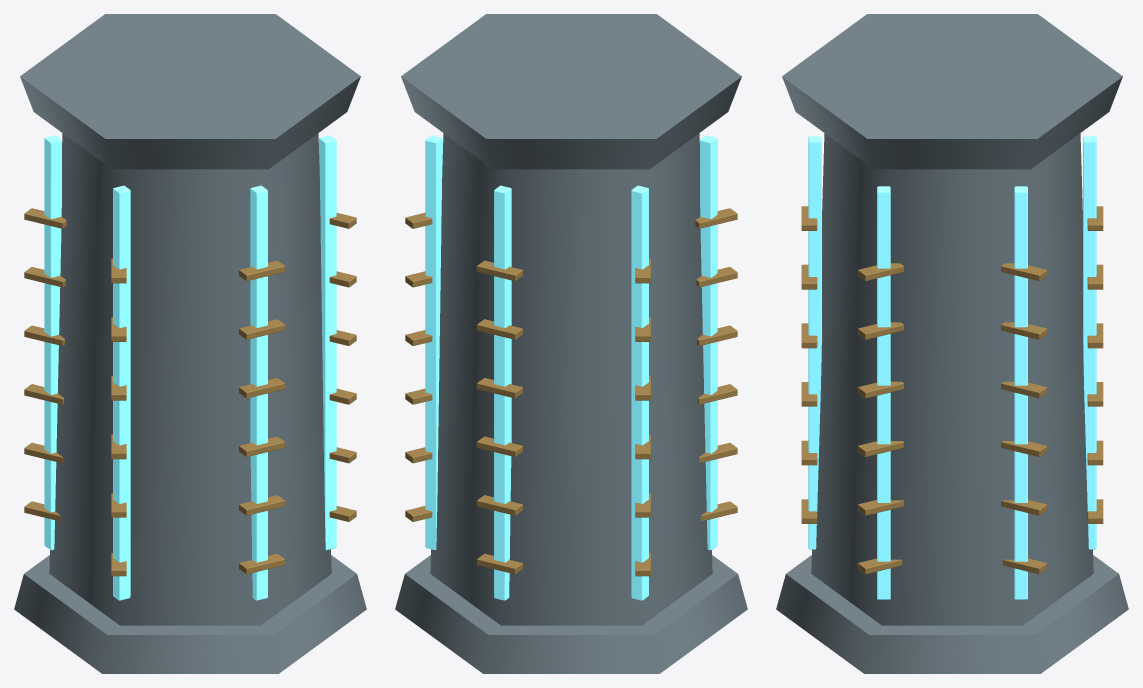
Rendered from server_pillar.glb.
3 renders of one model, left to right at view 1: azimuth 30°, elevation 25°; view 2: azimuth 150°, elevation 25°; view 3: azimuth 270°, elevation 25°, orthographic.
Parts seen in each view (by area): view 1: server_pillar; view 2: server_pillar; view 3: server_pillar.
Boxes of the visible parts, box(x1,y1,x2,y2) form: server_pillar: box(14, 14, 366, 673); server_pillar: box(395, 14, 747, 673); server_pillar: box(776, 14, 1128, 673).
Bounding box in the file's own units: 1.56 × 3 × 1.8.
